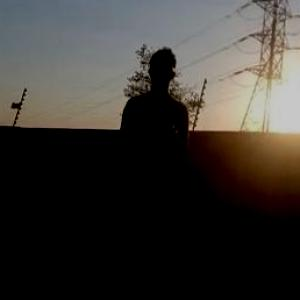follow: (98, 42, 189, 299)
